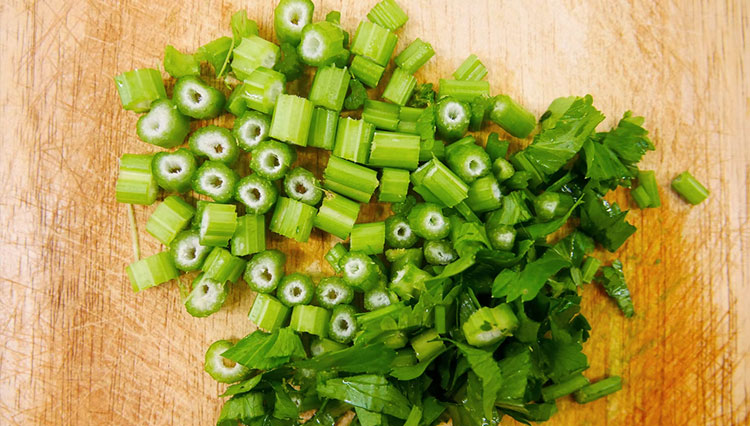Seledri: (104, 36, 710, 421)
